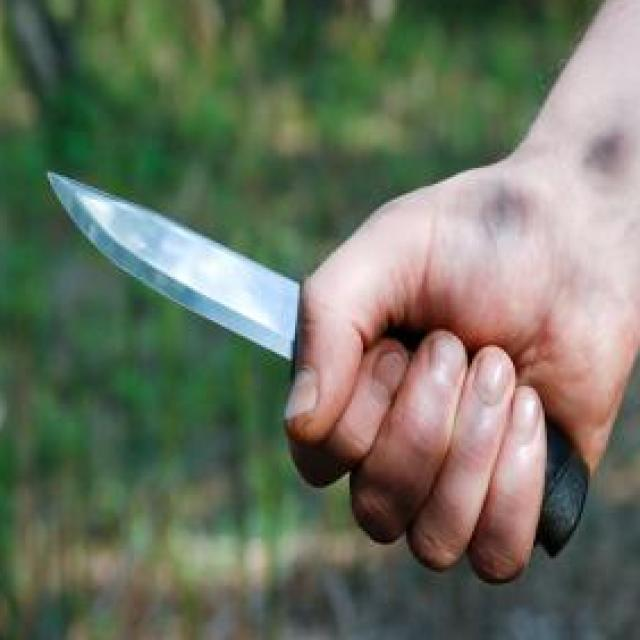knife: (41, 152, 598, 573)
